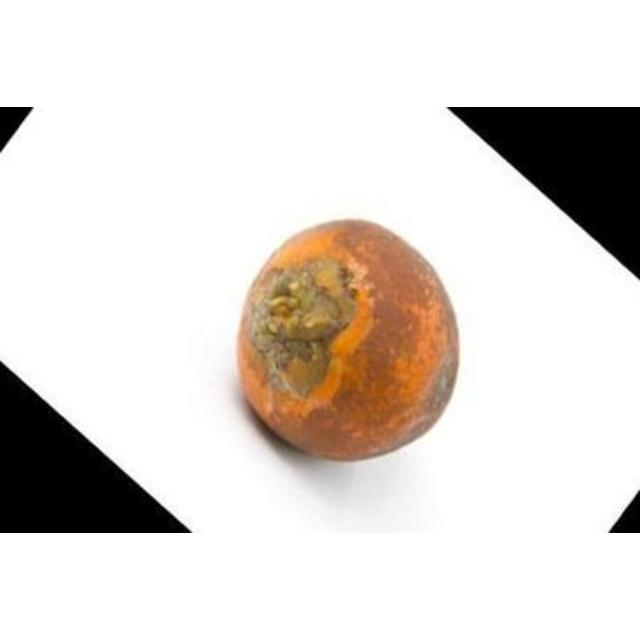good: (236, 219, 461, 464)
